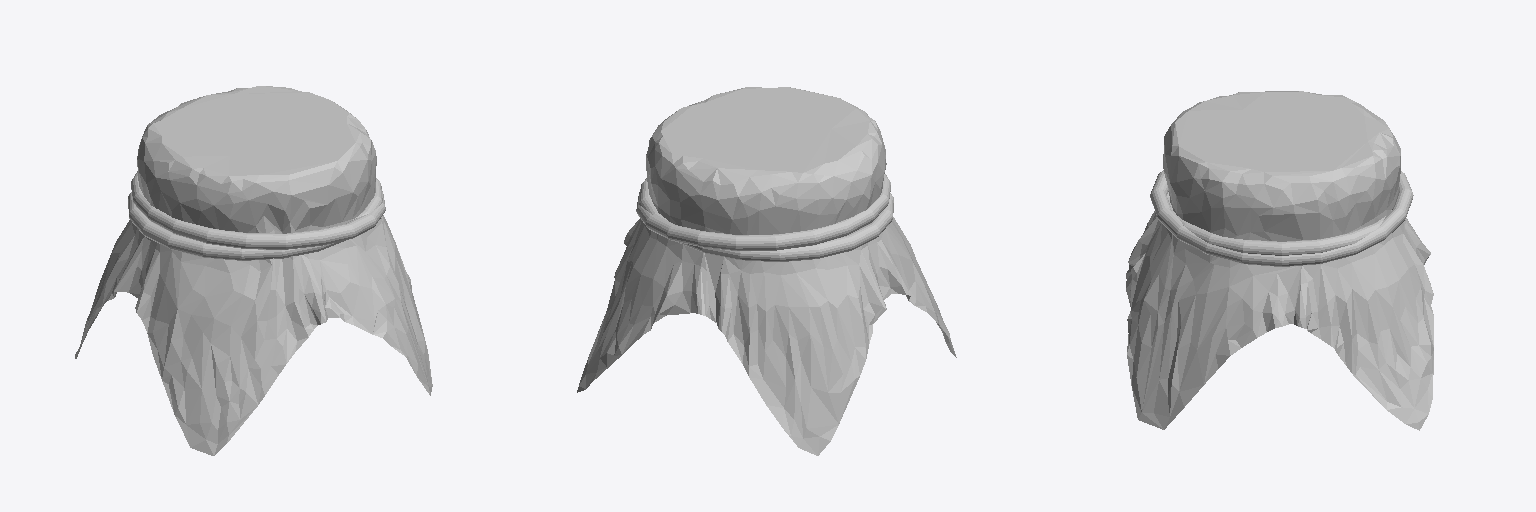
File: Pot4Lid.obj
3 views of the same model, side by side, from view 1: azimuth 30°, elevation 25°; view 2: azimuth 150°, elevation 25°; view 3: azimuth 270°, elevation 25° (orthographic).
Parts seen in each view (by area): view 1: Pot4Lid; view 2: Pot4Lid; view 3: Pot4Lid.
Part boxes in pixels (x1,y1,x2,y2): Pot4Lid: (75, 86, 432, 455); Pot4Lid: (577, 87, 956, 455); Pot4Lid: (1126, 91, 1433, 430).
Size of the model in its own units: 0.9607 by 0.864 by 0.9699.